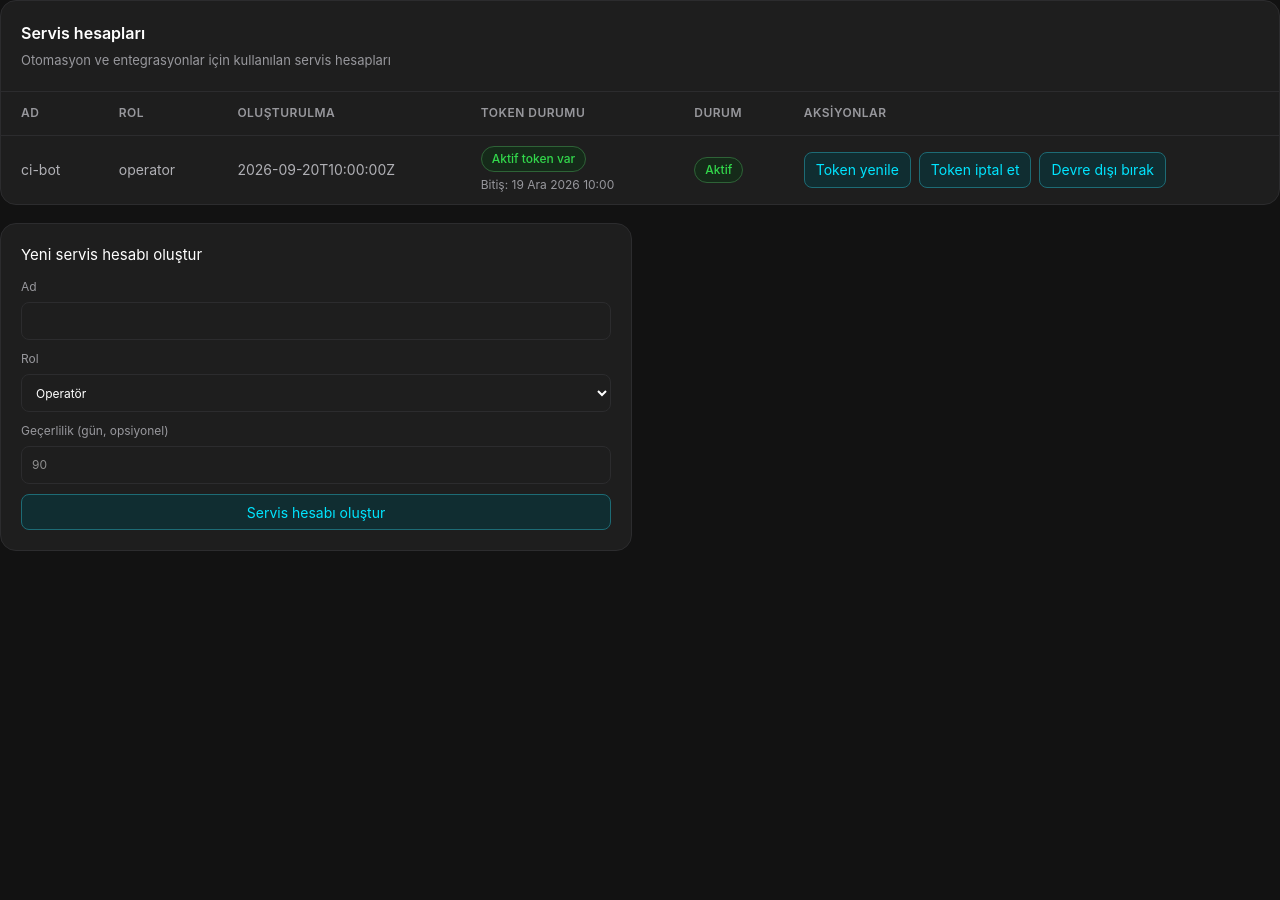
Test case: SettingsServiceAccountsTab › rotates a token and reveals the new one-time token with a CSRF header
Expected: the table named "Servis hesapları" is shown, x1=1 y1=92 x2=1279 y2=204
Click the button "Token yenile": (857, 170) x1=804 y1=152 x2=911 y2=188
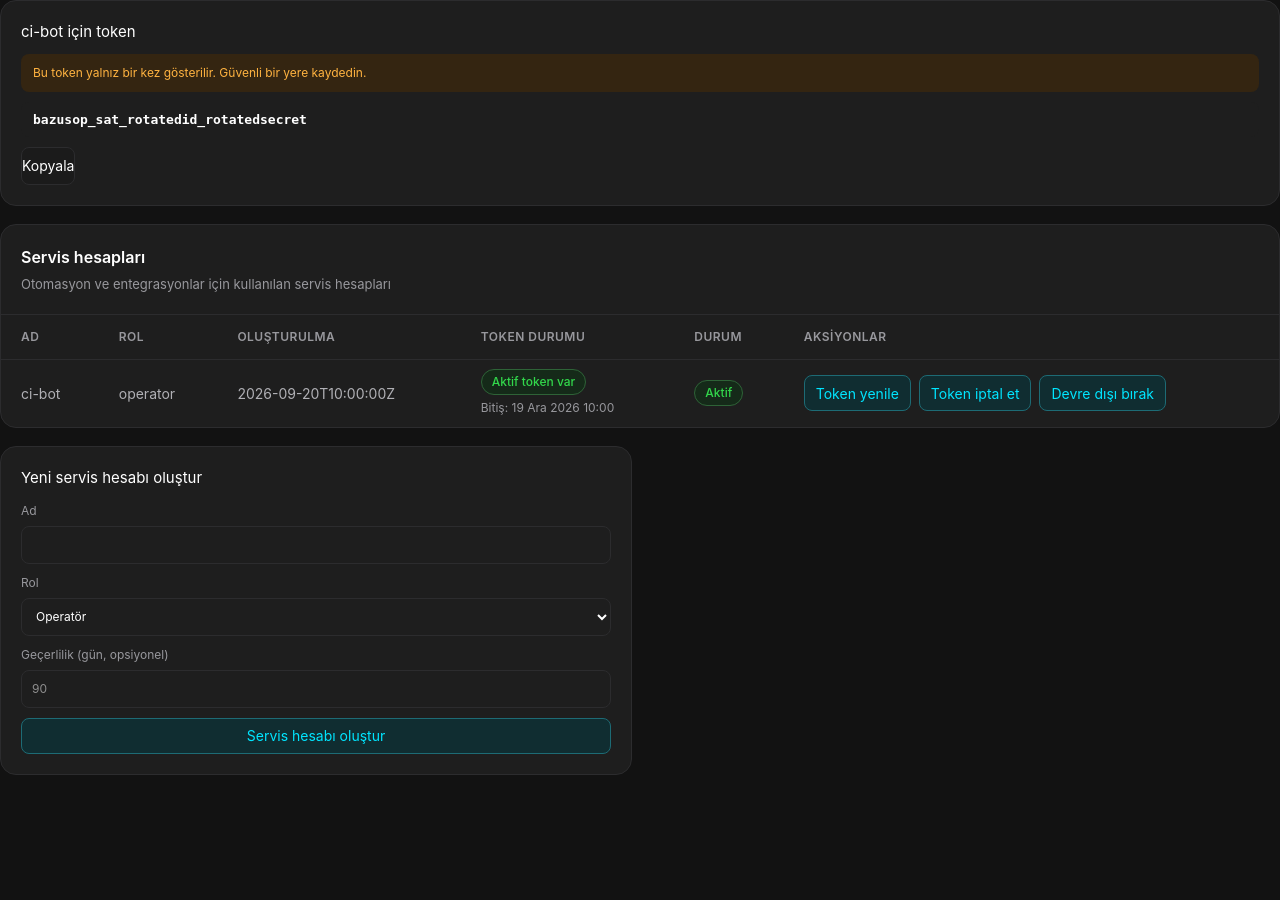
Now the text "bazusop_sat_rotatedid_rotatedsecret" is shown, box x1=21 y1=102 x2=1259 y2=136
